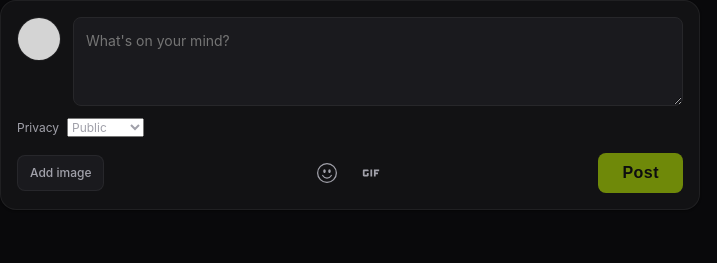
Scenario: NewPost › preserves input when the API rejects submission
Type "Do not lose this" into the text box with placeholder "What's on your mind?". click: (378, 62)
box: [73,17,683,106]
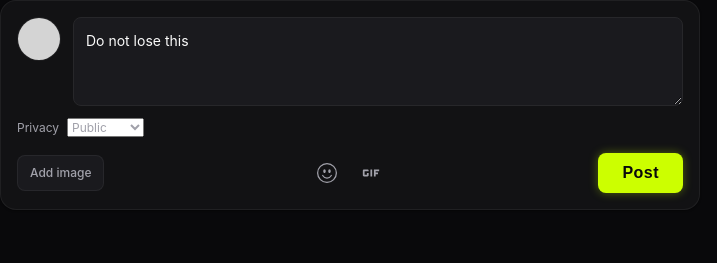
Click the button "Post". click: (641, 173)
box: [598,153,683,193]
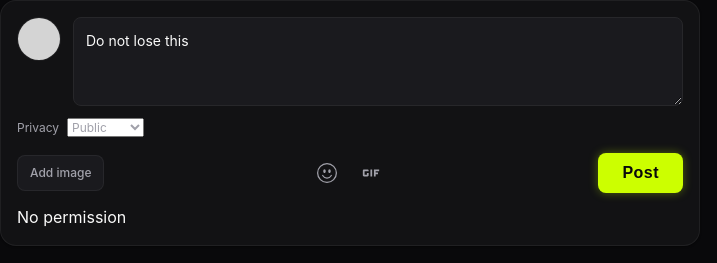
Expected: the text "No permission" is shown, [17,207,126,227]
